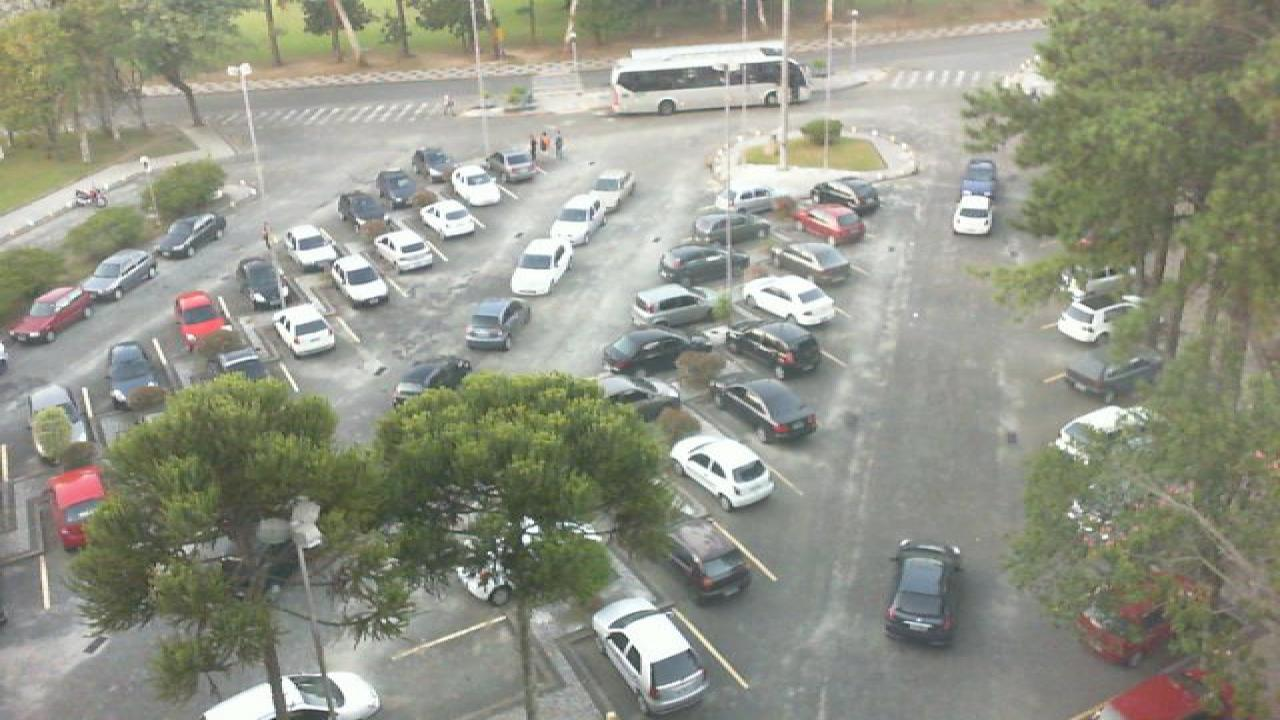Car: (590, 595, 712, 718), (878, 538, 966, 648), (652, 509, 756, 600), (216, 669, 382, 720), (668, 433, 774, 511), (1076, 603, 1178, 673), (716, 376, 820, 442), (724, 320, 824, 378), (4, 286, 94, 345), (740, 272, 836, 326), (48, 468, 108, 550), (598, 325, 692, 376), (1064, 356, 1162, 404), (392, 358, 478, 410), (78, 248, 158, 302), (108, 339, 166, 409), (596, 373, 672, 426), (510, 235, 574, 297), (466, 295, 534, 352), (630, 286, 718, 330), (150, 211, 228, 260), (1054, 297, 1130, 347), (656, 244, 746, 286), (770, 238, 852, 282), (174, 289, 230, 349), (372, 226, 442, 274), (276, 302, 336, 358), (790, 202, 866, 246), (544, 195, 606, 248), (330, 253, 390, 307), (1056, 403, 1136, 441), (690, 211, 770, 248), (418, 197, 482, 241), (810, 177, 880, 217), (456, 558, 514, 606), (236, 255, 286, 310), (286, 222, 342, 271), (216, 346, 280, 386), (336, 190, 392, 233), (1074, 270, 1138, 307), (456, 163, 506, 206), (580, 168, 634, 206), (952, 192, 998, 236), (378, 165, 422, 207), (728, 183, 782, 216), (502, 143, 542, 183), (408, 145, 450, 183), (958, 158, 998, 195)
